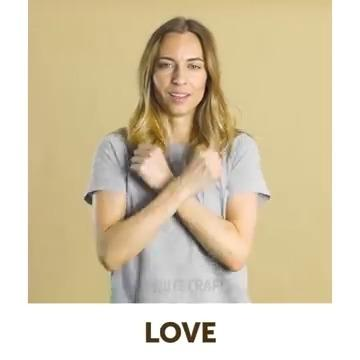love: (133, 134, 225, 219)
